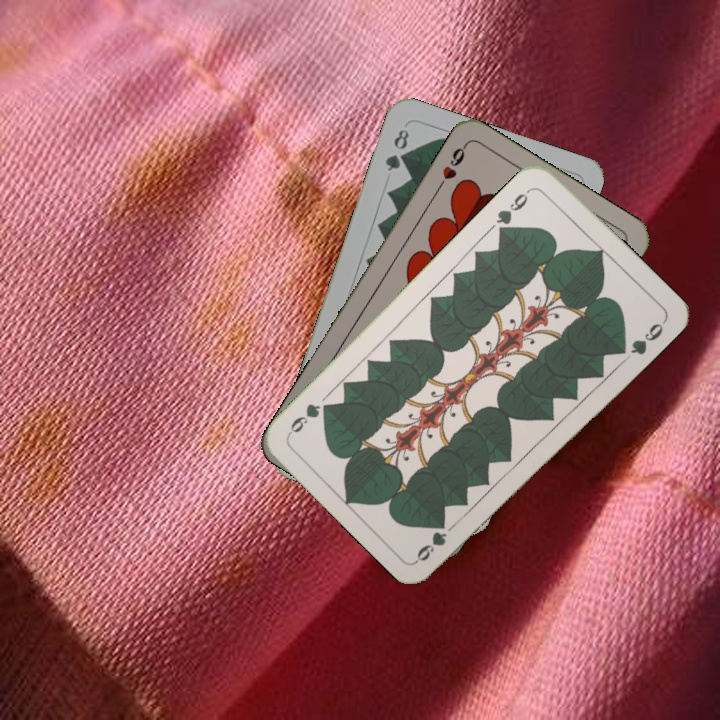G8: (381, 125, 412, 174)
G9: (491, 184, 535, 236), (412, 528, 450, 564)
H9: (432, 141, 470, 194)
